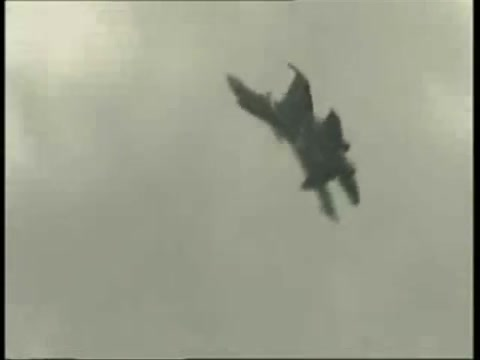aeroplane: (229, 63, 362, 224)
